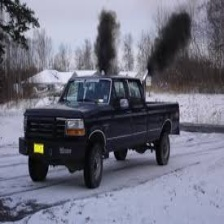smoke: (147, 12, 191, 78), (96, 9, 118, 73)
